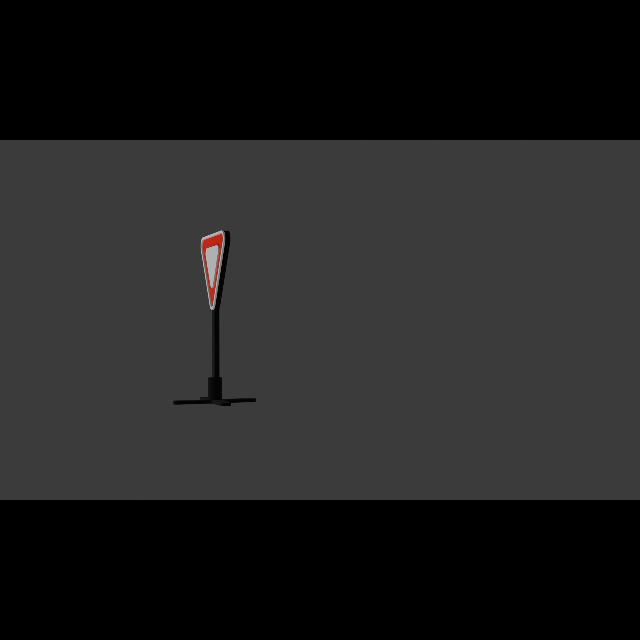sign_yield: (201, 231, 227, 311)
